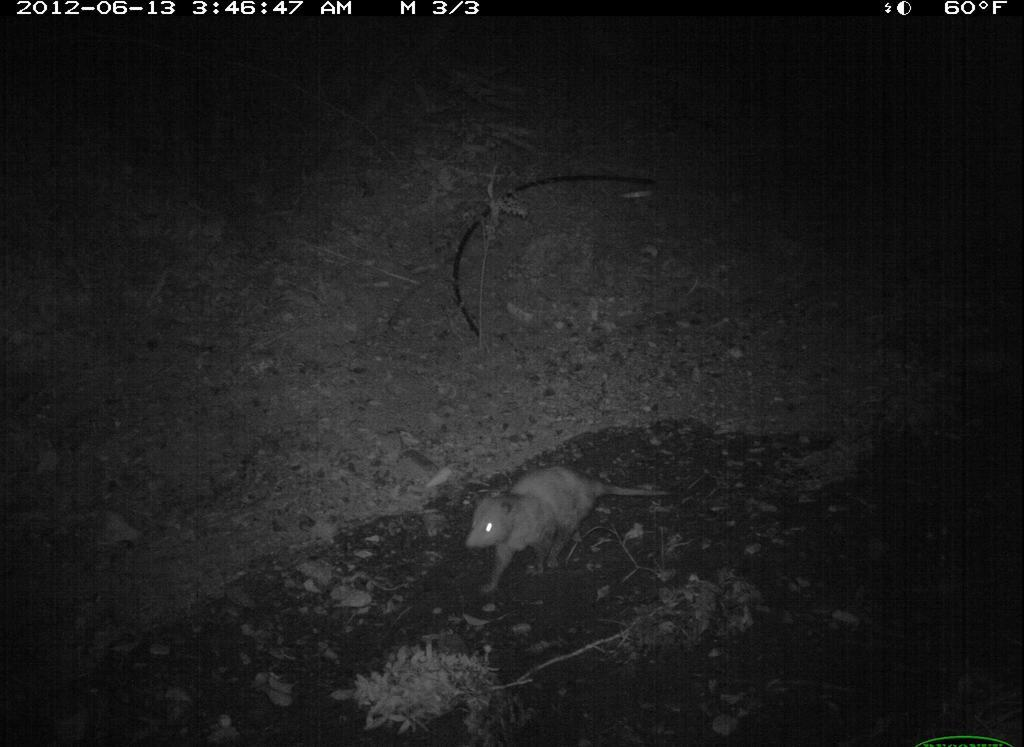opossum: (464, 447, 673, 580)
